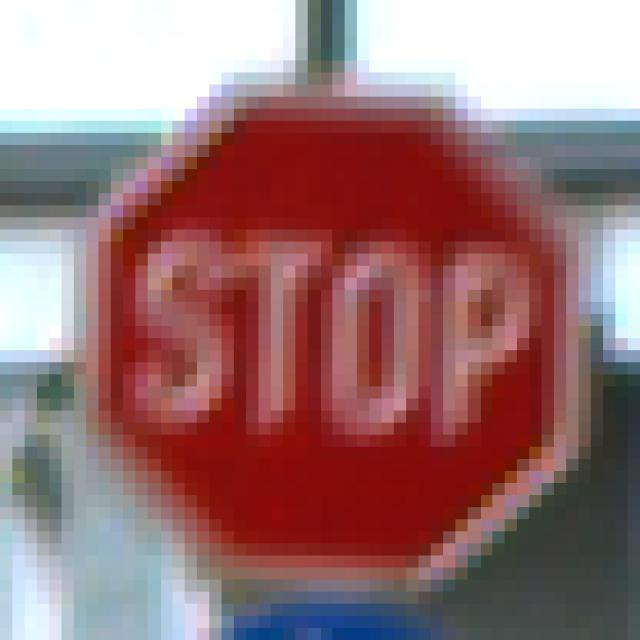STOP: (75, 62, 567, 569)
